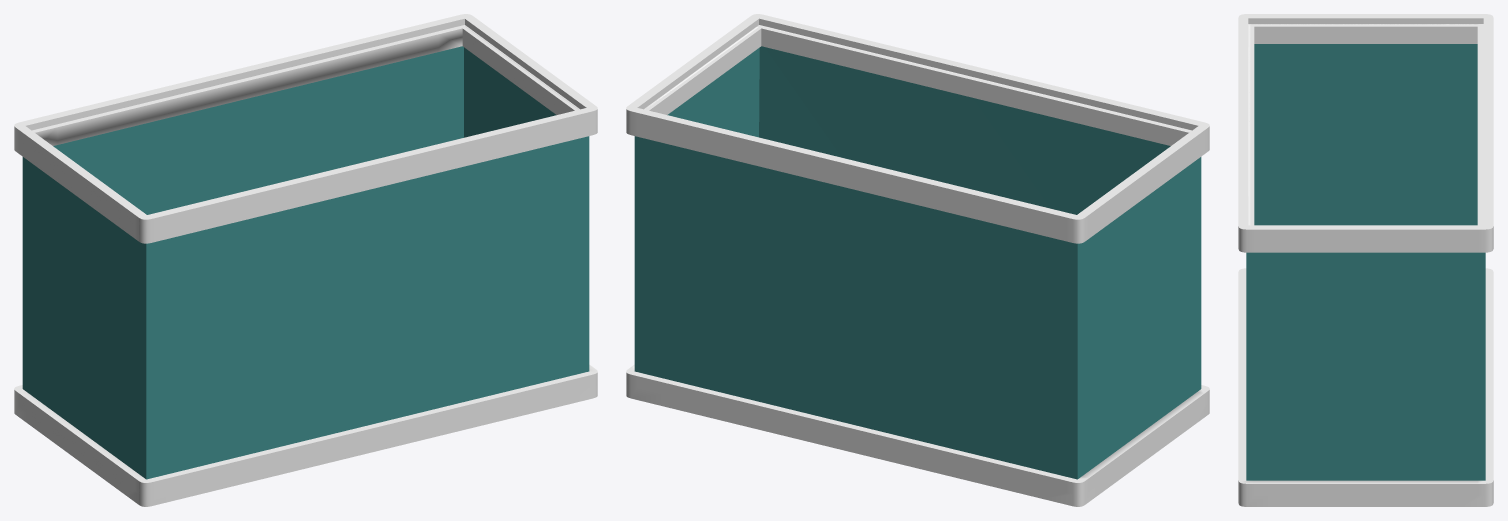
3 renders of one model, left to right at view 1: azimuth 30°, elevation 25°; view 2: azimuth 150°, elevation 25°; view 3: azimuth 270°, elevation 25°, orthographic. The views are drawn at different scales.
Visible parts, largest first — view 1: aquarium_; view 2: aquarium_; view 3: aquarium_.
Part boxes in pixels (left/top/right/bottom): aquarium_: left=14, top=14, right=597, bottom=506; aquarium_: left=626, top=14, right=1209, bottom=506; aquarium_: left=1238, top=14, right=1493, bottom=506.
Size of the model in its own units: 60 by 30 by 36.01.
